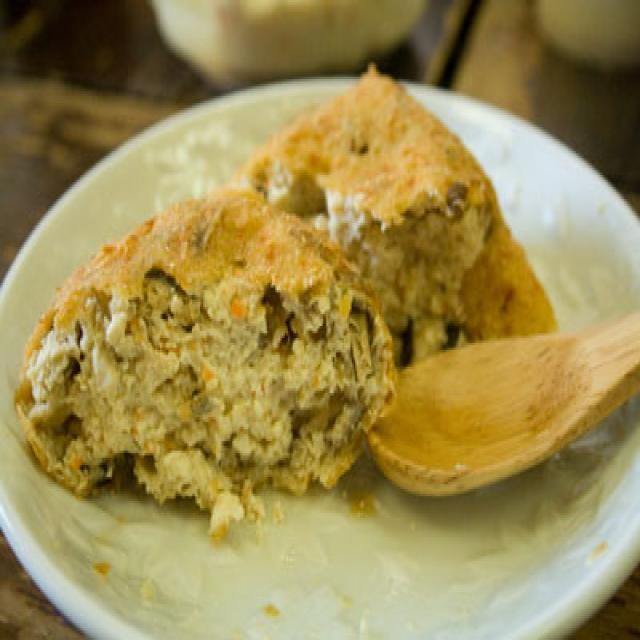熟制海鲜: (0, 74, 608, 508)
